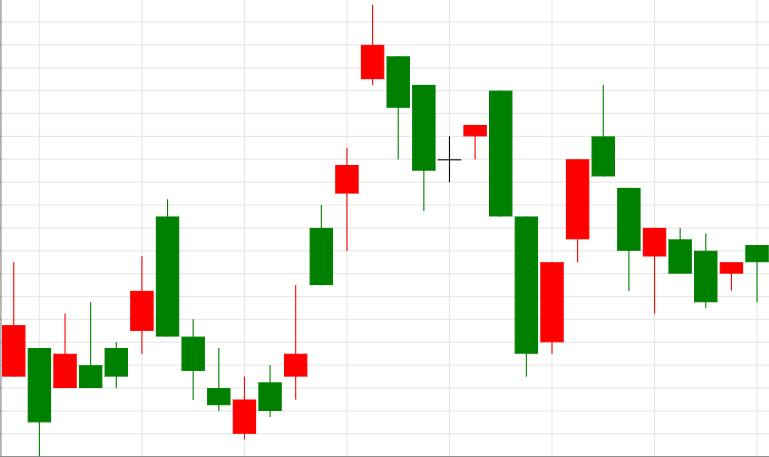shooting_star_fall: (233, 5, 385, 440)
